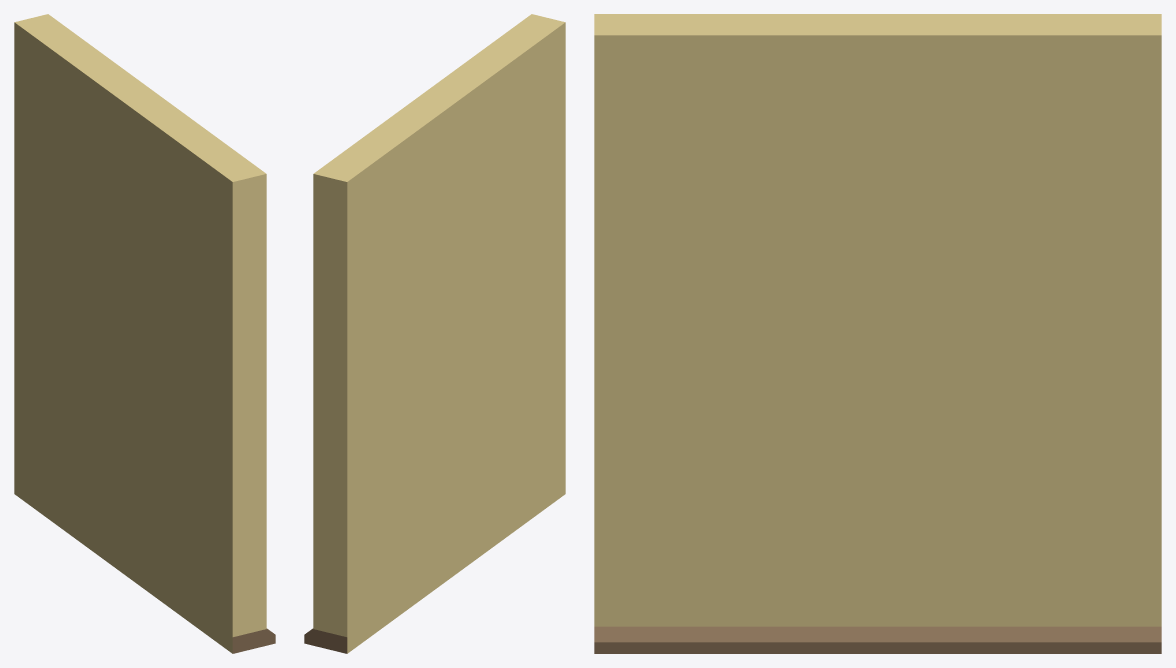
Rendered from sciana.fbx.
3 renders of one model, left to right at view 1: azimuth 30°, elevation 25°; view 2: azimuth 150°, elevation 25°; view 3: azimuth 270°, elevation 25°, orthographic. The views are drawn at different scales.
Parts seen in each view (by area): view 1: Cube.002; view 2: Cube.002; view 3: Cube.002.
Boxes of the visible parts, box(x1,y1,x2,y2) form: Cube.002: box(14, 14, 275, 653); Cube.002: box(304, 14, 565, 653); Cube.002: box(594, 14, 1161, 653).
Bounding box in the file's own units: 215 × 2265 × 1901.
